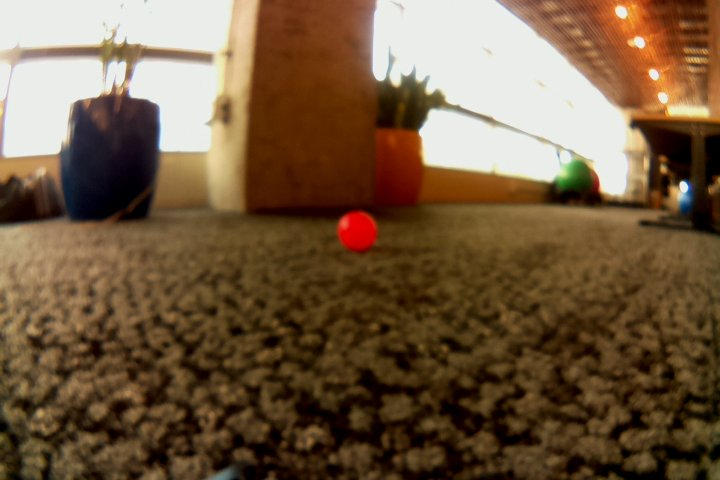ball: (677, 182, 692, 213)
